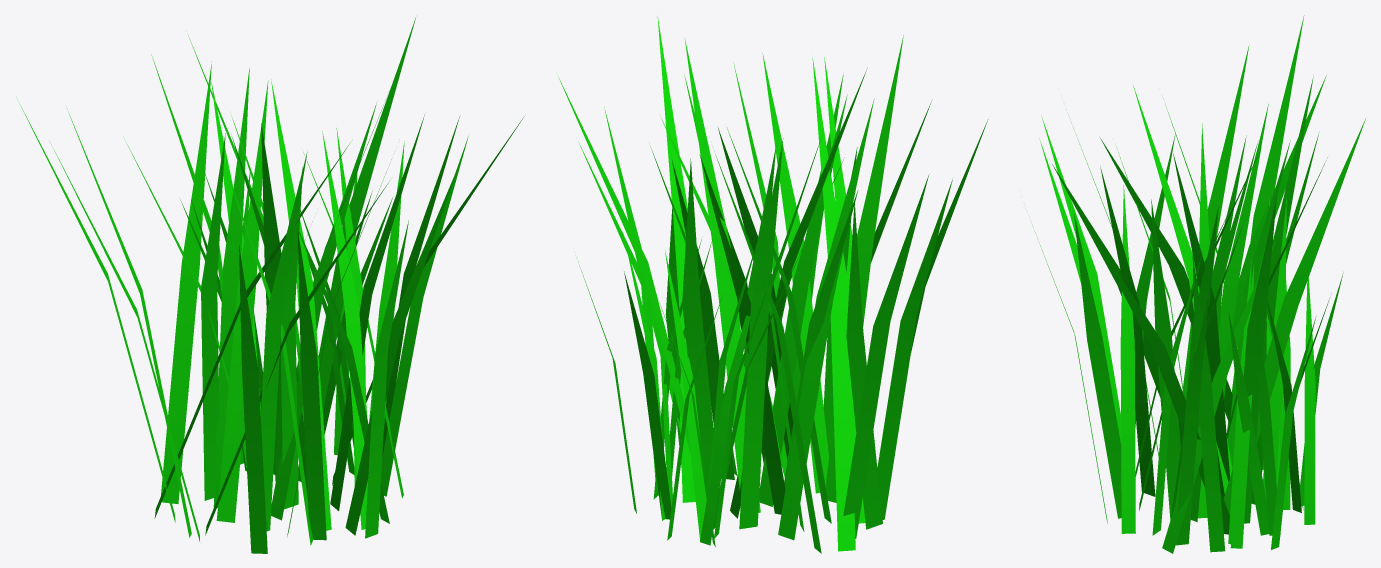
The model's file is Grass_003.fbx.
3 renders of one model, left to right at view 1: azimuth 30°, elevation 25°; view 2: azimuth 150°, elevation 25°; view 3: azimuth 270°, elevation 25°, orthographic. The views are drawn at different scales.
Visible parts, largest first — view 1: Grass.003; view 2: Grass.003; view 3: Grass.003.
Boxes of the visible parts, x1,y1,x2,y2 form: Grass.003: (20, 17, 524, 553); Grass.003: (558, 16, 988, 553); Grass.003: (1032, 15, 1365, 553).
Size of the model in its own units: 217 by 223 by 175.
